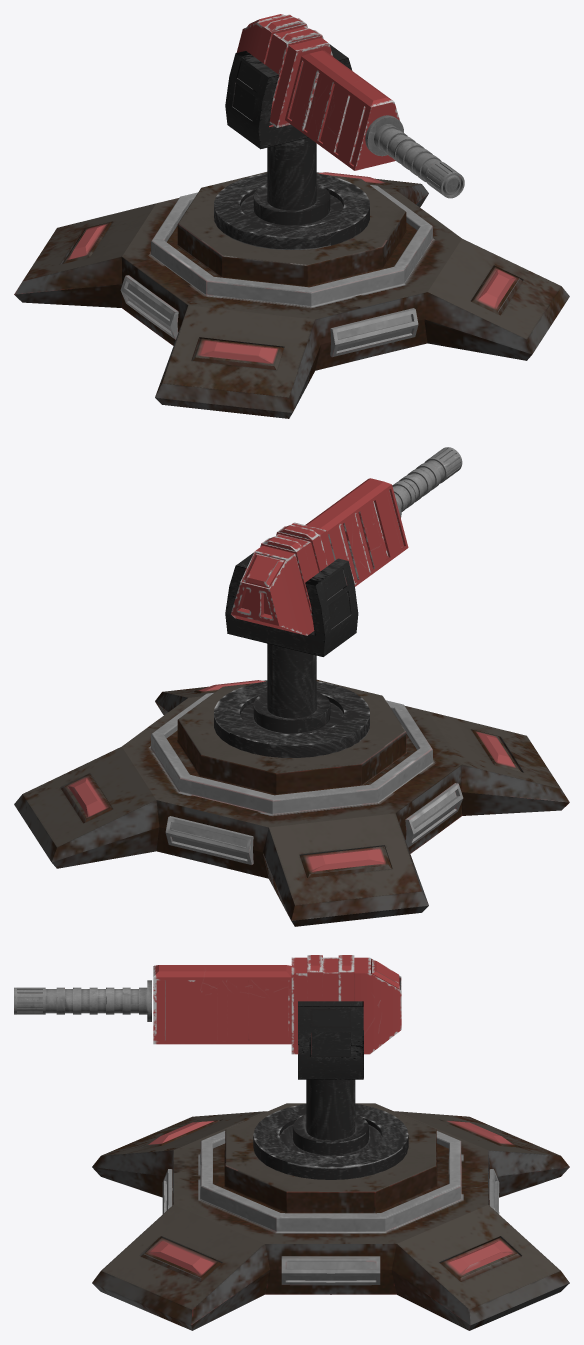
Rendered from Level1_Turret.fbx.
3 views of the same model, one above another, from view 1: azimuth 30°, elevation 25°; view 2: azimuth 150°, elevation 25°; view 3: azimuth 270°, elevation 25° (orthographic).
Parts seen in each view (by area): view 1: Level 1 Turret; view 2: Level 1 Turret; view 3: Level 1 Turret.
Boxes of the visible parts, x1,y1,x2,y2 form: Level 1 Turret: [14, 14, 569, 418]; Level 1 Turret: [14, 447, 569, 926]; Level 1 Turret: [14, 955, 569, 1330].
Bounding box in the file's own units: 367 × 234 × 429.
1 material, 1 textured.
